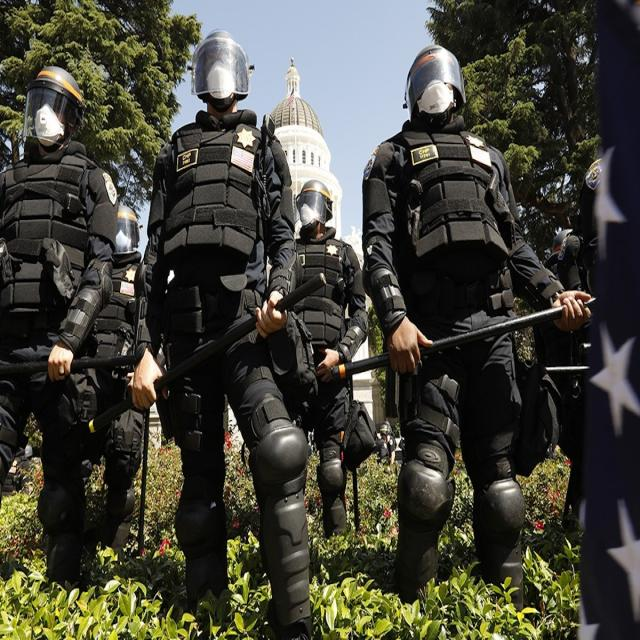police: (361, 38, 549, 600), (132, 31, 308, 628), (0, 51, 111, 587), (287, 175, 375, 547)
